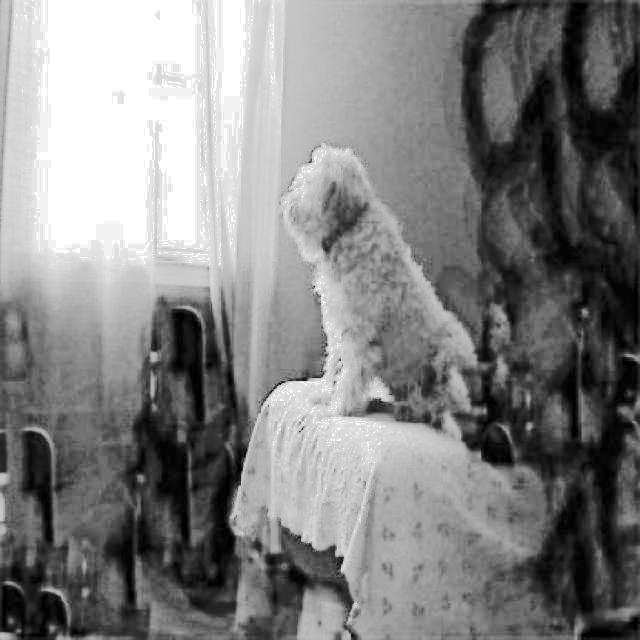Dog: (282, 138, 481, 427)
